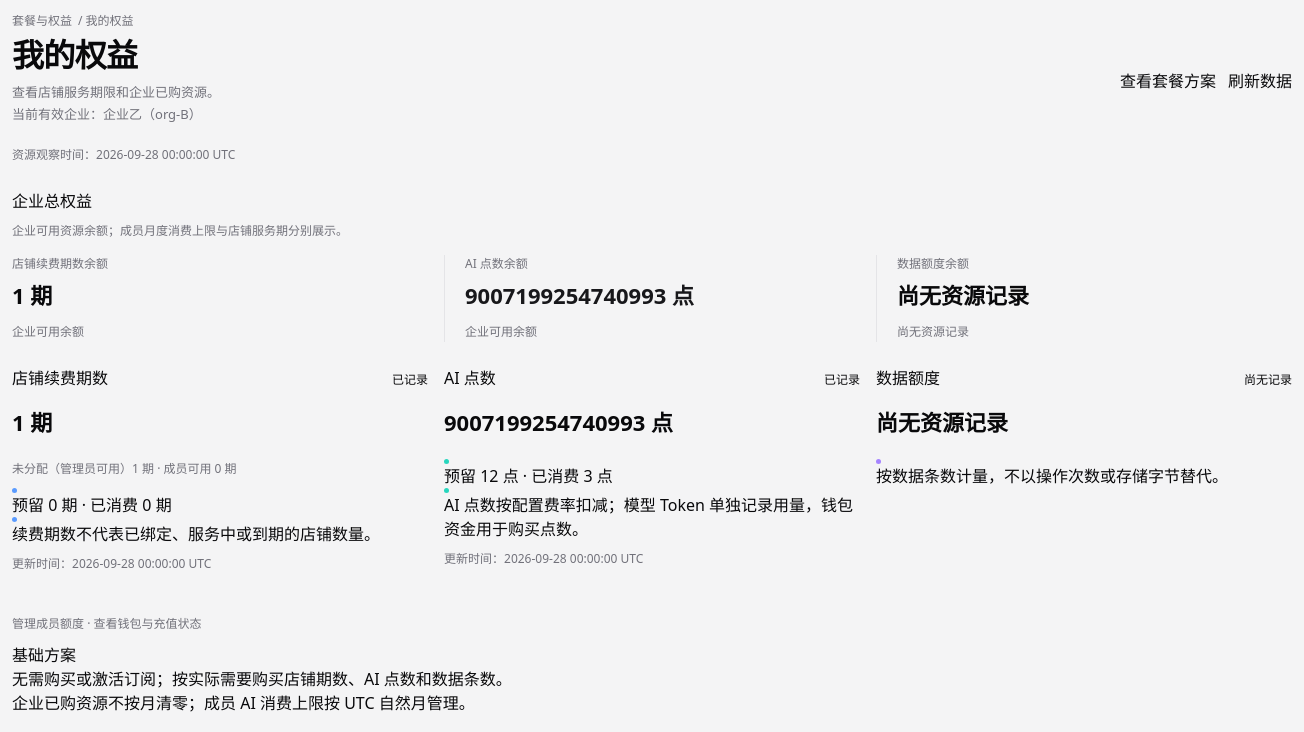
hides prior success on refresh and displays safe AUTHENTICATION_REQUIRED without fallback
Click the button "刷新数据" at [1260, 81], box [1228, 69, 1292, 93]
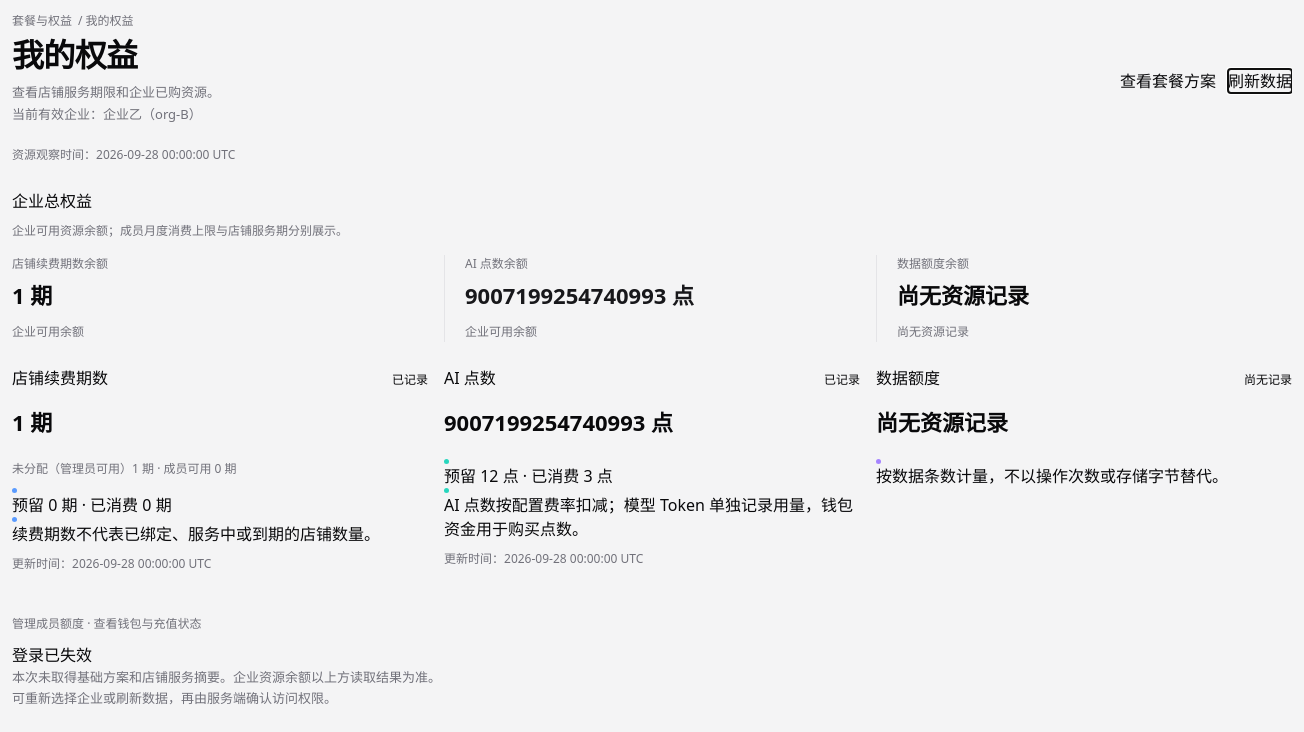
Expected: the message shows "登录已失效", [12, 644, 92, 666]
